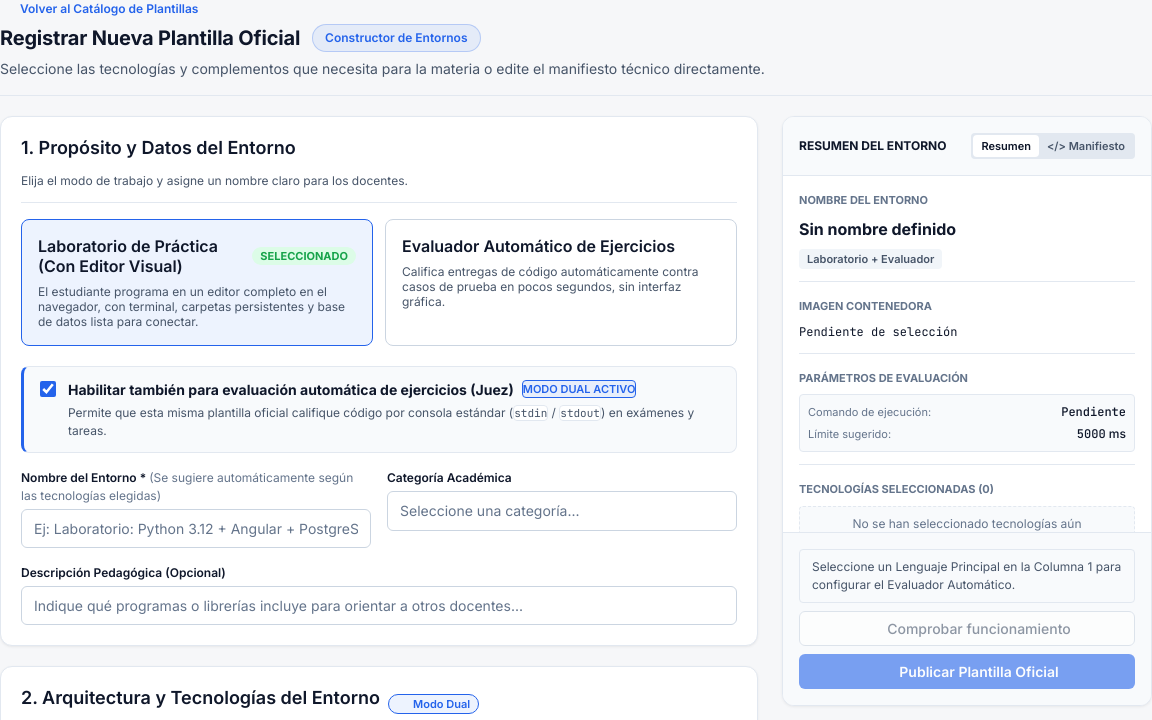
TemplateStudioComponent › should open and close the scope info modal via scope-chip-btn in AMBOS mode
Click the button "Modo Dual" at [434, 704], box [388,694,479,714]
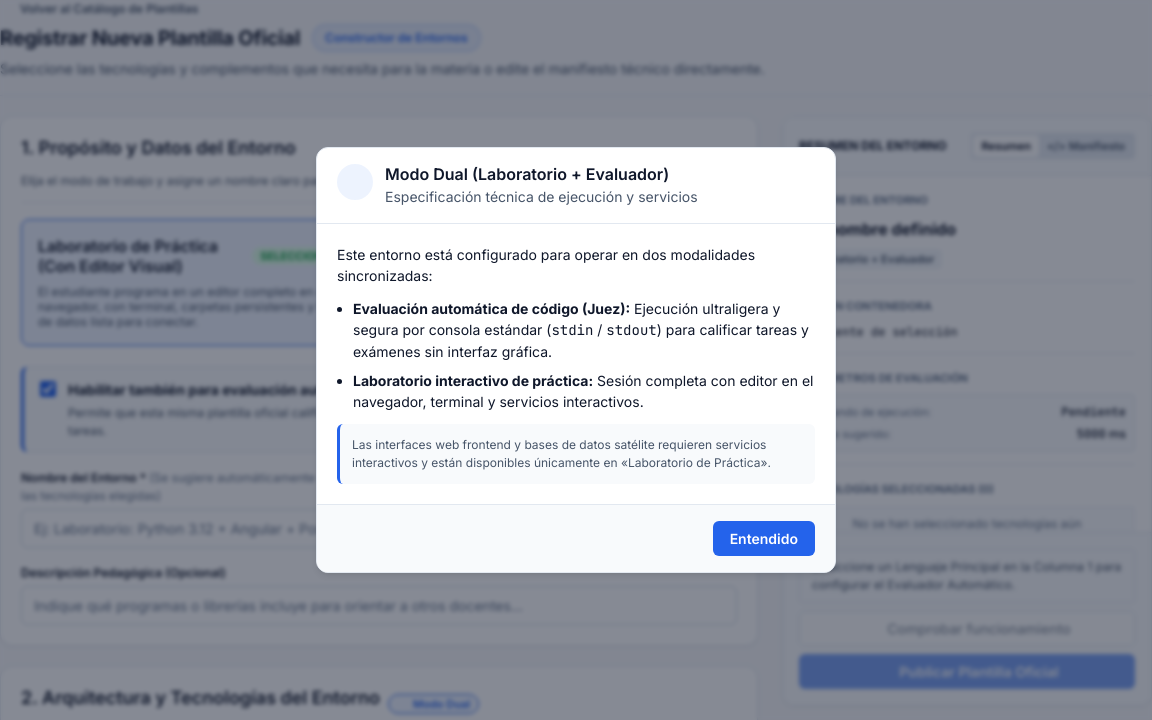
Expected: the text "stdin" is shown, [551,321,593,339]
